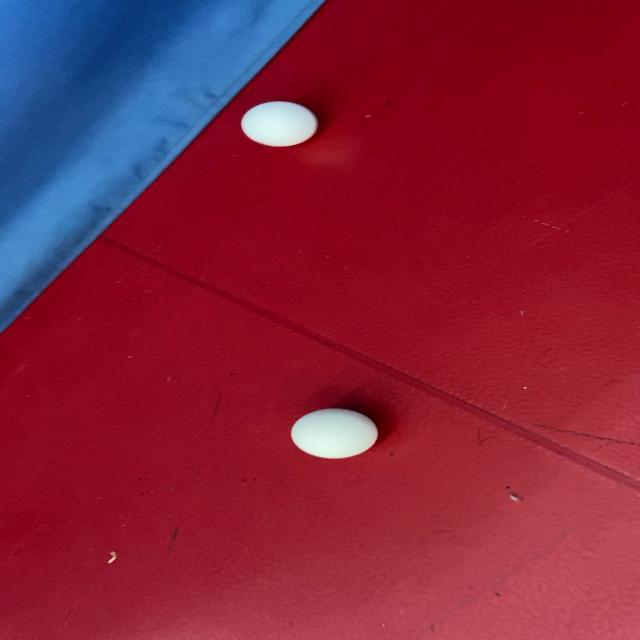ping-pong-ball: (287, 404, 385, 460), (233, 98, 323, 150)
